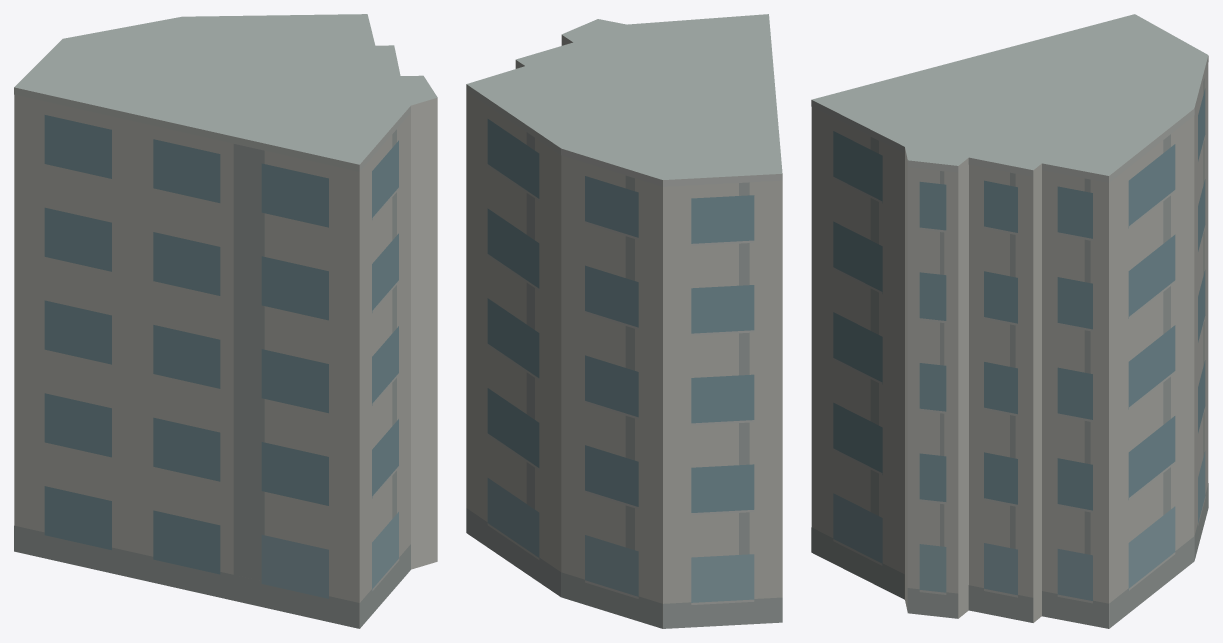
File: survey-upis-32811204.glb
3 views of the same model, side by side, from view 1: azimuth 30°, elevation 25°; view 2: azimuth 150°, elevation 25°; view 3: azimuth 270°, elevation 25° (orthographic). The views are drawn at different scales.
Parts seen in each view (by area): view 1: survey-upis-32811204.tmp; view 2: survey-upis-32811204.tmp; view 3: survey-upis-32811204.tmp.
Part boxes in pixels (left/top/right/bottom): survey-upis-32811204.tmp: left=14, top=14, right=437, bottom=628; survey-upis-32811204.tmp: left=466, top=14, right=782, bottom=628; survey-upis-32811204.tmp: left=811, top=14, right=1208, bottom=628.
Size of the model in its own units: 12.13 by 15.8 by 12.56.
